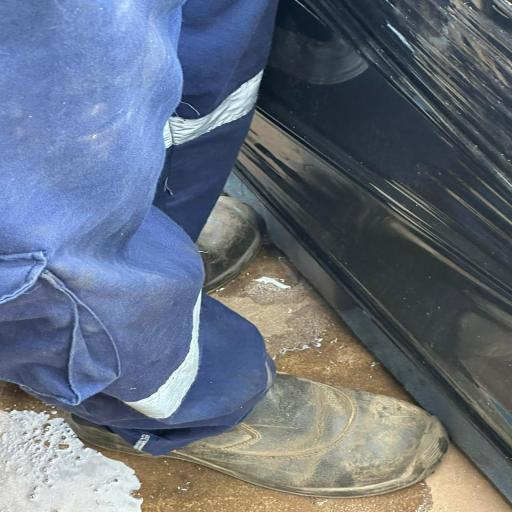safety_shoe: (120, 318, 457, 500)
